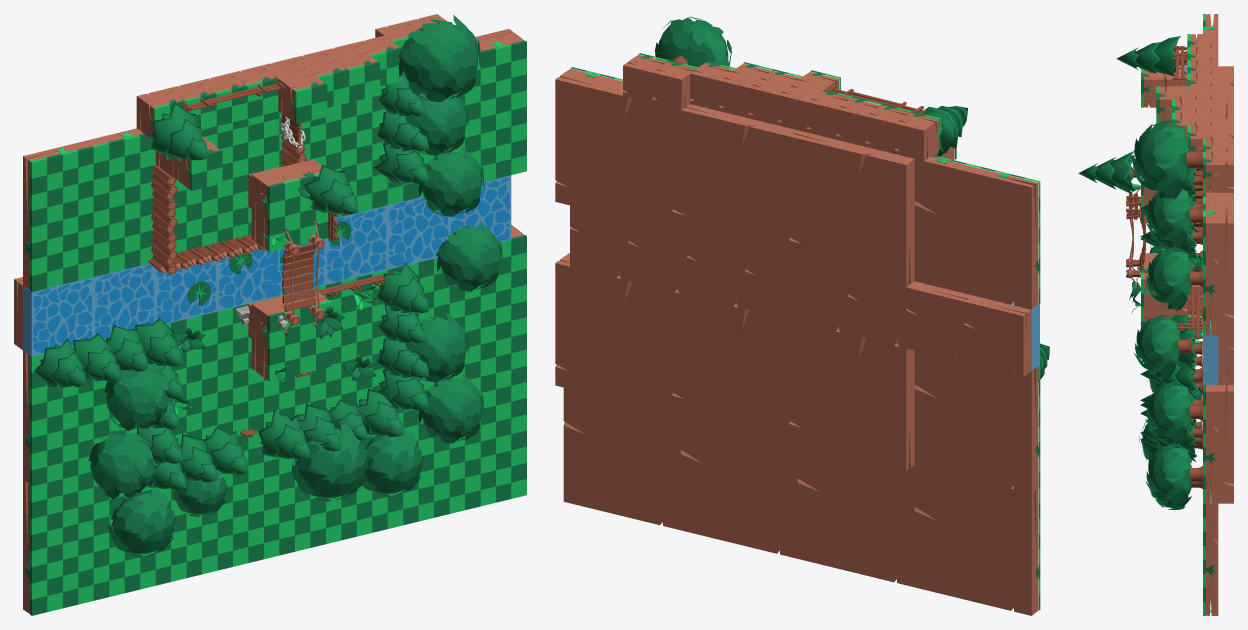
File: tutorial-starter-level.glb
3 views of the same model, side by side, from view 1: azimuth 30°, elevation 25°; view 2: azimuth 150°, elevation 25°; view 3: azimuth 270°, elevation 25° (orthographic). The views are drawn at different scales.
Visible parts, largest first — view 1: Water4.006, GroundGrass8.012, GroundGrass8.010, GroundGrass8.008, GroundGrass8.006, GroundGrass8.001, GroundGrass8.005, GroundGrass8.009, GroundGrass8.002, GroundGrass8.011, GroundGrass8.003, GroundGrass8.004 (+52 smaller); view 2: GroundDirt4.008, GroundGrass8.012, GroundDirt8.002, GroundGrass8.010, GroundDirt8.001, GroundDirt8.004, GroundDirt8.006, GroundGrass8.009, GroundDirt8.005, GroundDirt8.003, GroundGrass8.006, GroundGrass8.007 (+13 smaller); view 3: Tree1.011, Tree1.002, Tree1.012, Tree1.003, Tree1.001, GroundGrass8.011, GroundDirt8.006, Tree1.010, GroundGrass8.005, GroundDirt8.005, GroundGrass8.008, Tree2.002 (+28 smaller).
Boxes of the visible parts, x1,y1,x2,y2 form: Water4.006: [23, 175, 511, 356]; GroundGrass8.012: [23, 128, 155, 291]; GroundGrass8.010: [23, 472, 155, 615]; GroundGrass8.008: [403, 365, 526, 525]; GroundGrass8.006: [155, 431, 279, 585]; GroundGrass8.001: [166, 297, 279, 444]; GroundGrass8.005: [408, 229, 526, 390]; GroundGrass8.009: [23, 338, 137, 486]; GroundGrass8.002: [155, 111, 279, 253]; GroundGrass8.011: [403, 35, 526, 201]; GroundGrass8.003: [279, 266, 402, 419]; GroundGrass8.004: [279, 72, 403, 218]; GroundDirt4.008: [570, 205, 1031, 376]; GroundGrass8.012: [914, 155, 1040, 309]; GroundDirt8.002: [789, 130, 914, 287]; GroundGrass8.010: [914, 465, 1040, 615]; GroundDirt8.001: [789, 320, 914, 470]; GroundDirt8.004: [672, 104, 796, 258]; GroundDirt8.006: [555, 73, 673, 230]; GroundGrass8.009: [914, 351, 1040, 493]; GroundDirt8.005: [555, 257, 673, 413]; GroundDirt8.003: [672, 289, 790, 442]; GroundGrass8.006: [797, 445, 915, 587]; GroundGrass8.007: [680, 416, 798, 558]; Tree1.011: [1131, 119, 1202, 199]; Tree1.002: [1134, 314, 1191, 378]; Tree1.012: [1145, 247, 1202, 310]; Tree1.003: [1145, 443, 1202, 506]; Tree1.001: [1145, 380, 1202, 444]; GroundGrass8.011: [1203, 189, 1218, 335]; GroundDirt8.006: [1218, 193, 1233, 335]; Tree1.010: [1145, 188, 1202, 247]; GroundGrass8.005: [1203, 339, 1218, 503]; GroundDirt8.005: [1218, 376, 1233, 503]; GroundGrass8.008: [1203, 488, 1218, 615]; Tree2.002: [1116, 36, 1187, 76].
Size of the model in its own units: 12870 by 12781 by 4025.
